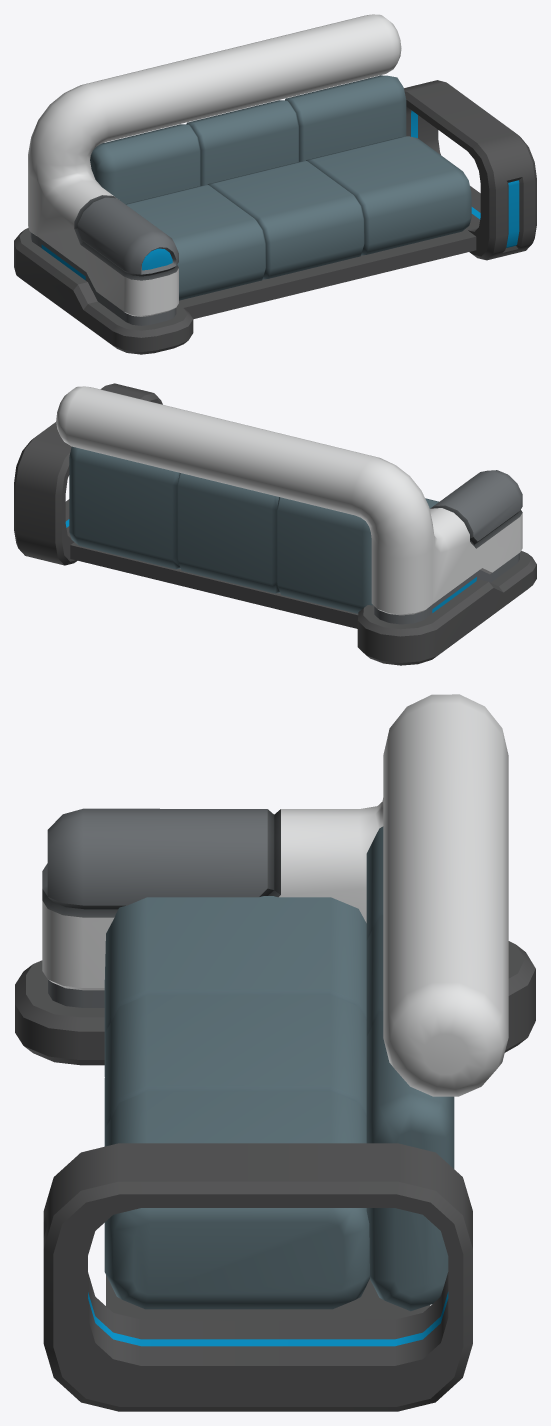
The model's file is Sofa_004.fbx.
The picture shows the model from 3 angles, top to bottom: view 1: azimuth 30°, elevation 25°; view 2: azimuth 150°, elevation 25°; view 3: azimuth 270°, elevation 25°; orthographic projection. The views are drawn at different scales.
Visible parts, largest first — view 1: Sofa_004; view 2: Sofa_004; view 3: Sofa_004.
Part boxes in pixels (box(x1,y1,x2,y2)): Sofa_004: box(14, 14, 536, 354); Sofa_004: box(14, 383, 536, 665); Sofa_004: box(15, 694, 535, 1411).
Size of the model in its own units: 207 by 112 by 88.15.
